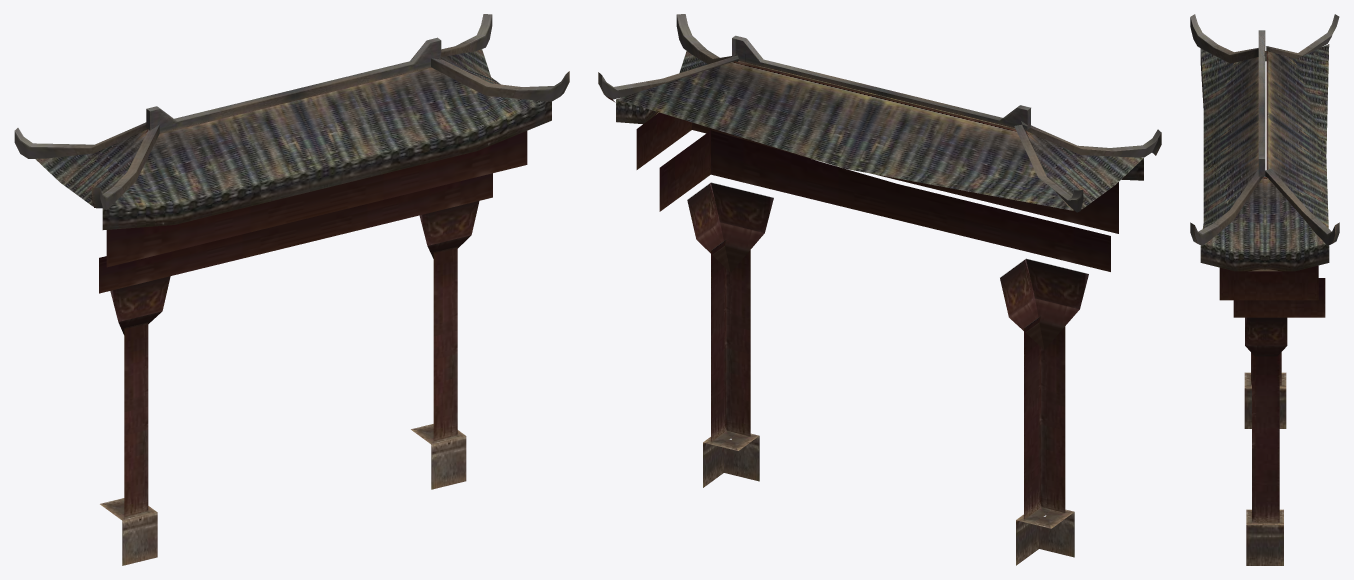
File: yw_dunhuang_paifang01.FBX
3 renders of one model, left to right at view 1: azimuth 30°, elevation 25°; view 2: azimuth 150°, elevation 25°; view 3: azimuth 270°, elevation 25°, orthographic. The views are drawn at different scales.
Parts seen in each view (by area): view 1: yw_dunhuang_paifang01; view 2: yw_dunhuang_paifang01; view 3: yw_dunhuang_paifang01.
Boxes of the visible parts, x1=… form: yw_dunhuang_paifang01: x1=14, y1=14, x2=569, y2=565; yw_dunhuang_paifang01: x1=598, y1=14, x2=1161, y2=565; yw_dunhuang_paifang01: x1=1190, y1=14, x2=1339, y2=565.
Bounding box in the file's own units: 579 × 510 × 173.
Materials: 1 (1 with a texture image).
